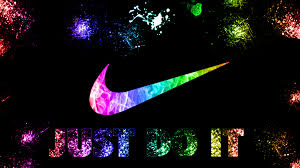nike: (74, 36, 254, 139)
